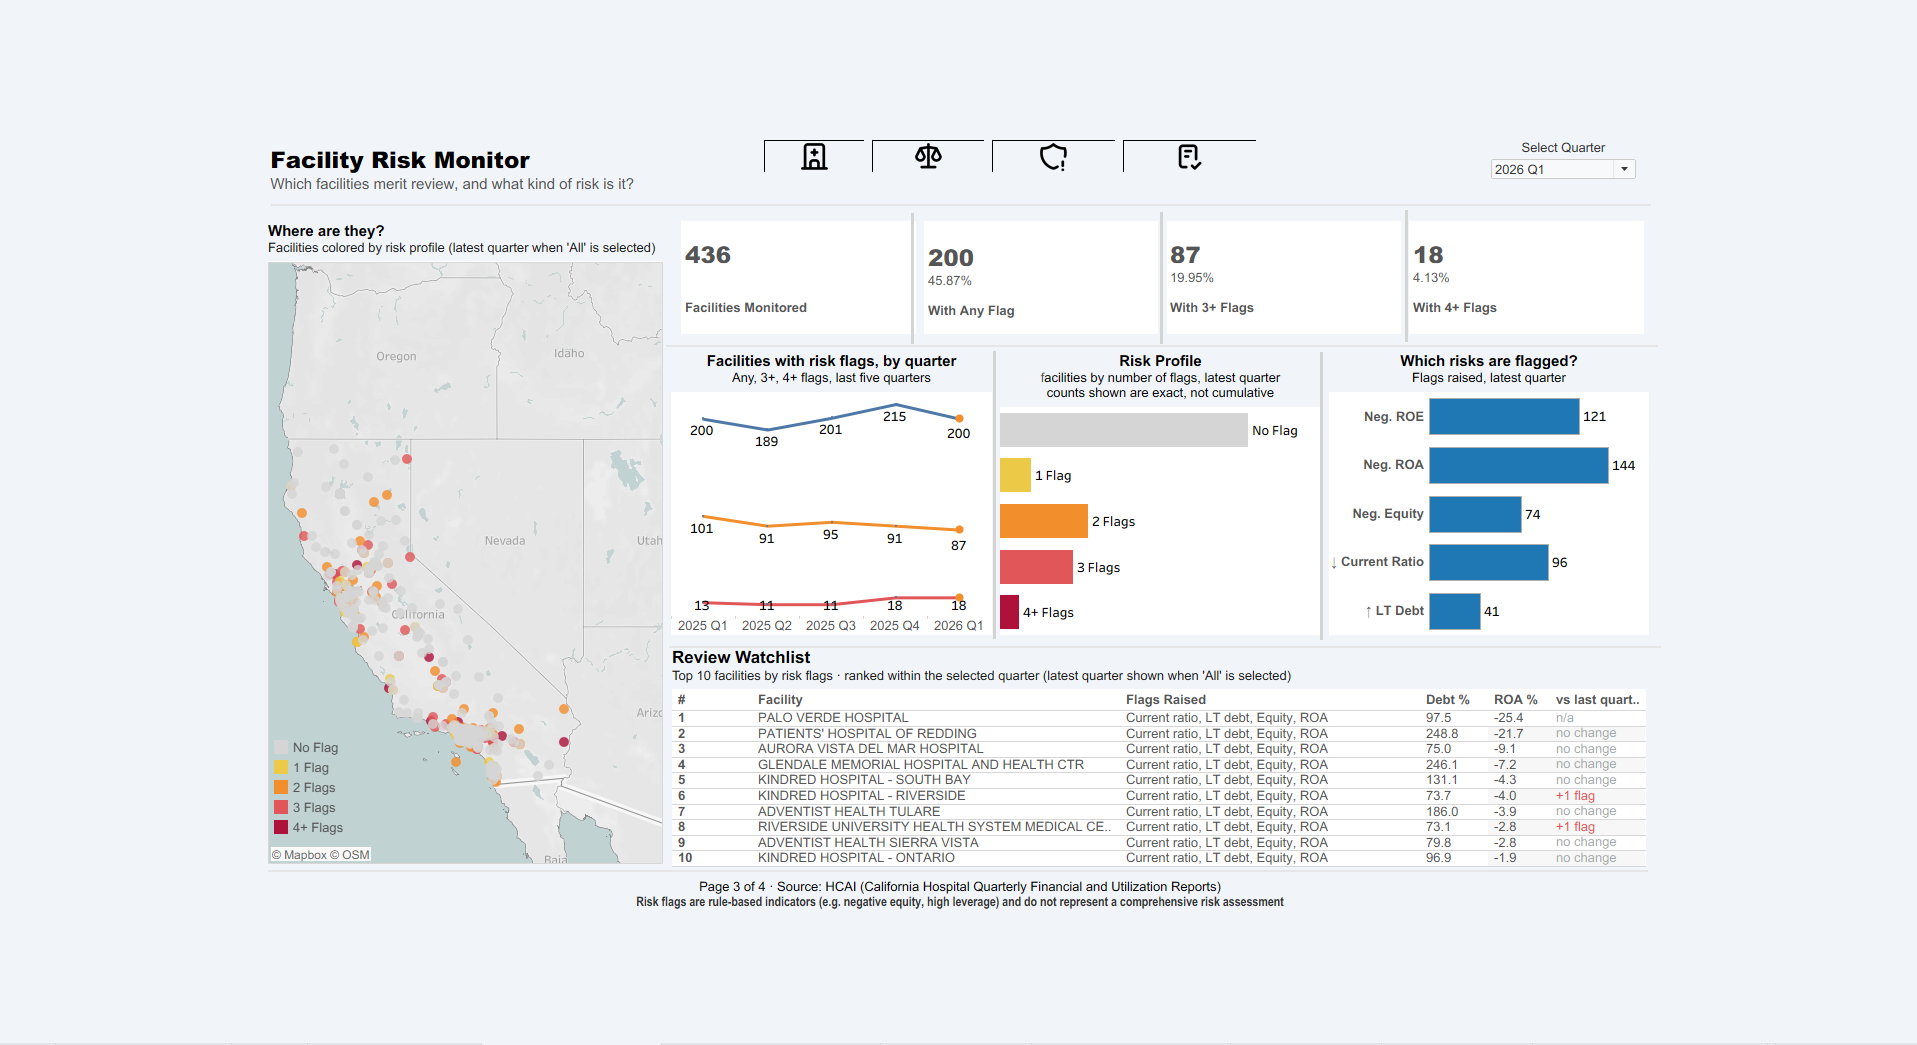

Layout of this report page (visuals, bound fields, positions):
{"tool":"tableau","page":{"name":"Facility Risk Monitor","canvas":[1400,800],"ordinal":1},"visuals":[{"type":"blank","box":[0,0,1400,800]},{"type":"text","box":[3,4,1397,85]},{"type":"dashboard-object","box":[500,15,108,40]},{"type":"dashboard-object","box":[608,15,120,40]},{"type":"dashboard-object","box":[728,15,131,40]},{"type":"dashboard-object","box":[859,15,141,40]},{"type":"parameter","param":"[Parameters].[Parameter 1784005467074563]","box":[1224,15,159,50]},{"type":"blank","box":[7,79,1388,10]},{"type":"blank","box":[1141,85,11,140]},{"type":"blank","box":[647,86,11,140]},{"type":"blank","box":[896,87,11,140]},{"type":"worksheet","title":"KPI - Facilities Monitored ","mark":"Automatic","box":[417,96,242.7,121]},{"type":"worksheet","title":"KPI - With Any Flag","mark":"Automatic","box":[659.8,96,242.7,121]},{"type":"worksheet","title":"KPI - With 3+ Flags","mark":"Automatic","box":[902.5,96,242.7,121]},{"type":"worksheet","title":"KPI - With 4+ Flags","mark":"Automatic","box":[1145.2,96,242.7,121]},{"type":"worksheet","title":"Facility Map","mark":"Automatic","box":[4,97,403,650]},{"type":"blank","box":[402,220,1000,10]},{"type":"worksheet","title":"R3 - Risk Trend","mark":"Line","cols":["Calculation_1135014951743488"],"box":[407,227,329,291]},{"type":"worksheet","title":"Risk Profile","mark":"Automatic","rows":["RISK_PROFILE"],"cols":["Calculation_1191370087714821"],"box":[736,227,329,291]},{"type":"worksheet","title":"Risk Types","mark":"Bar","box":[1065,227,328,291]},{"type":"blank","box":[1058,244,11,273]},{"type":"blank","box":[729,246,11,271]},{"type":"blank","box":[405,521,1000,10]},{"type":"worksheet","title":"R3 - Watchlist","mark":"Text","rows":["WATCH_RANK","FAC_NAME (VW_RISK_WATCHLIST)","FLAGS_TXT","DEBT_TXT","ROA_TXT"],"cols":["Calculation_0955797767737351"],"box":[408,523,982,227]},{"type":"legend","title":"Risk Profile","param":"[federated.1pdx1uj09bj3c811topkt1kvguux].[none:RISK_PROFILE:nk]","box":[11,616,105,106]},{"type":"blank","box":[4,745,1388,10]},{"type":"text","box":[8,751,1384,44]}]}

Visuals, with their boxes on the page's 1400x800 design canvas (x1, y1, x2, y2). These are canvas units, not pixel positions in the 1917x1045 screenshot, which may show the page scaled, cropped or inside an application window:
blank: 0/0/1400/800
text: 3/4/1400/89
dashboard-object: 500/15/608/55
dashboard-object: 608/15/728/55
dashboard-object: 728/15/859/55
dashboard-object: 859/15/1000/55
parameter: 1224/15/1383/65
blank: 7/79/1395/89
blank: 1141/85/1152/225
blank: 647/86/658/226
blank: 896/87/907/227
"KPI - Facilities Monitored " worksheet: 417/96/660/217
"KPI - With Any Flag" worksheet: 660/96/902/217
"KPI - With 3+ Flags" worksheet: 902/96/1145/217
"KPI - With 4+ Flags" worksheet: 1145/96/1388/217
"Facility Map" worksheet: 4/97/407/747
blank: 402/220/1402/230
"R3 - Risk Trend" worksheet (Line marks): 407/227/736/518
"Risk Profile" worksheet: 736/227/1065/518
"Risk Types" worksheet (Bar marks): 1065/227/1393/518
blank: 1058/244/1069/517
blank: 729/246/740/517
blank: 405/521/1405/531
"R3 - Watchlist" worksheet (Text marks): 408/523/1390/750
"Risk Profile" legend: 11/616/116/722
blank: 4/745/1392/755
text: 8/751/1392/795
